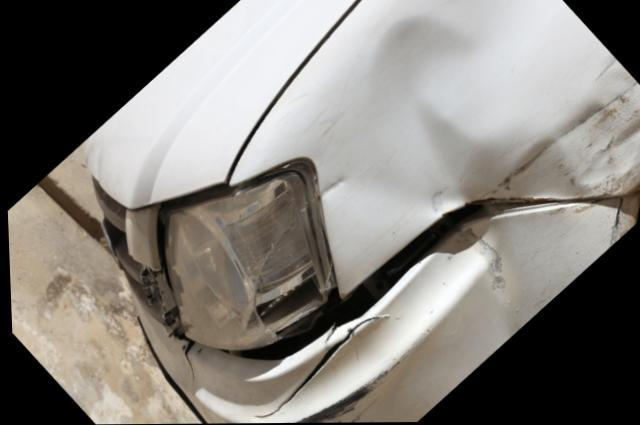crack: (249, 314, 390, 418), (181, 344, 192, 394), (321, 325, 334, 346)
dent: (315, 0, 617, 214)
dislocated part: (239, 195, 577, 367)
lamp broken: (157, 162, 333, 354)
scratch: (260, 333, 424, 424)
